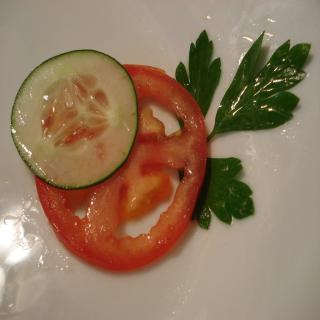tomato: (34, 61, 210, 272)
